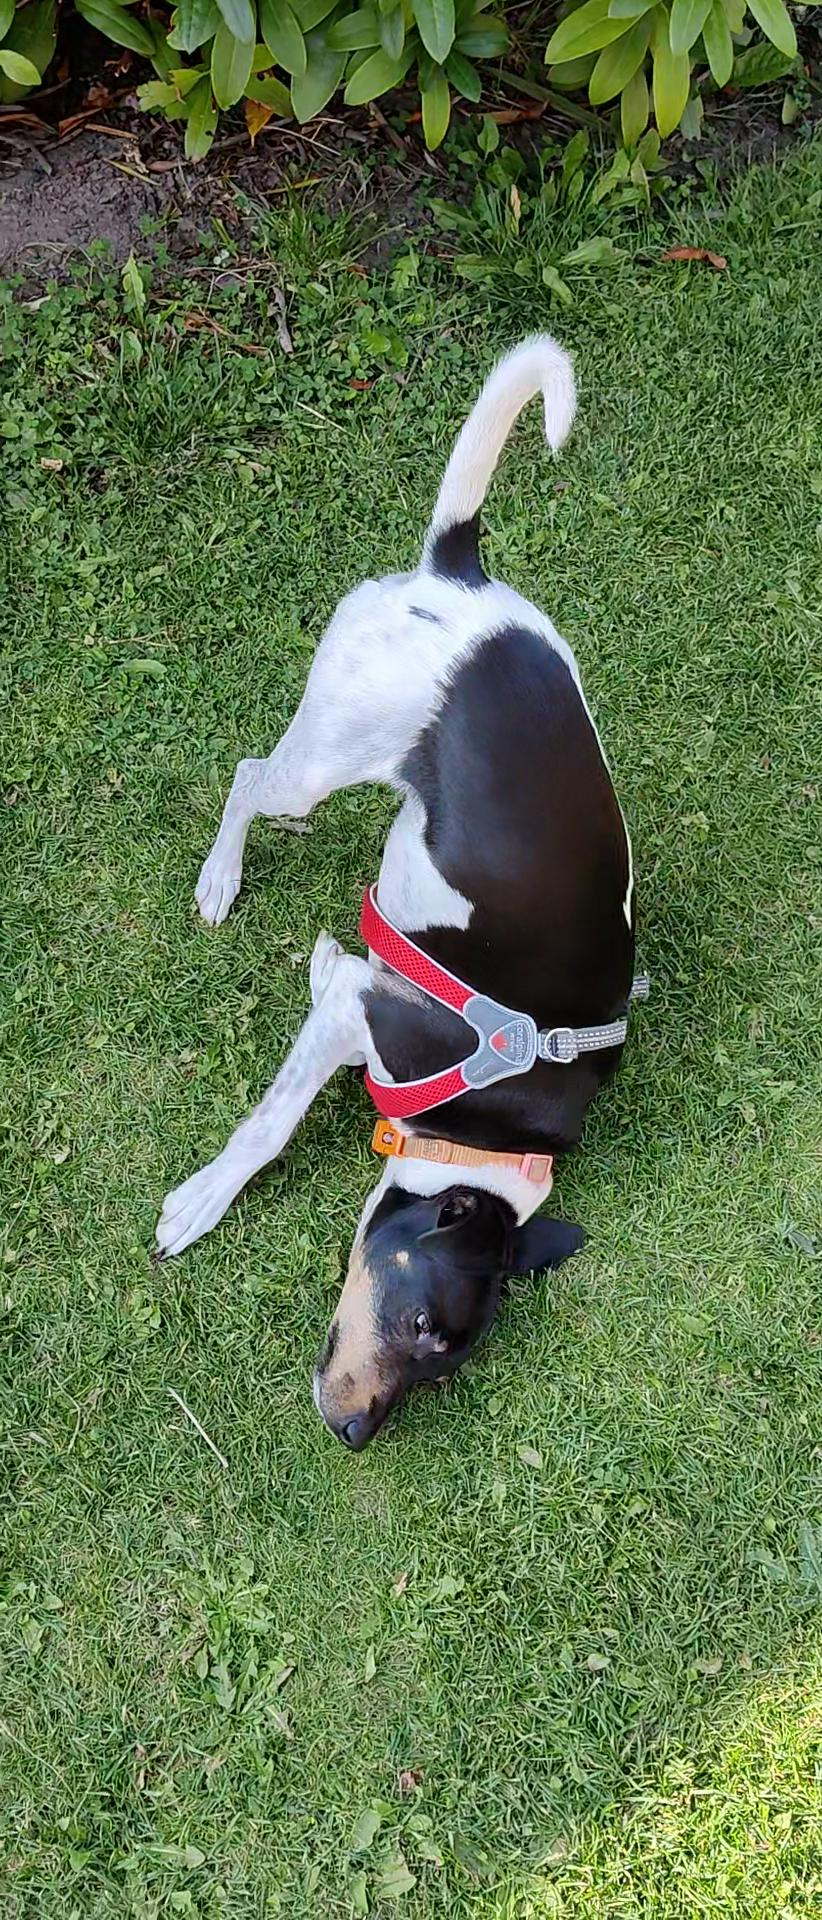Dog: (131, 290, 682, 1480)
